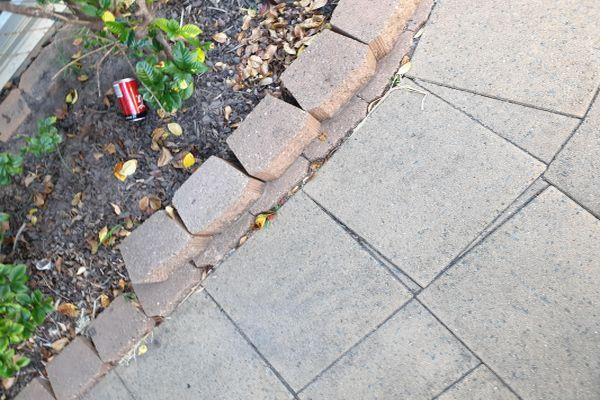Plastic Bottle: (112, 77, 149, 122)
